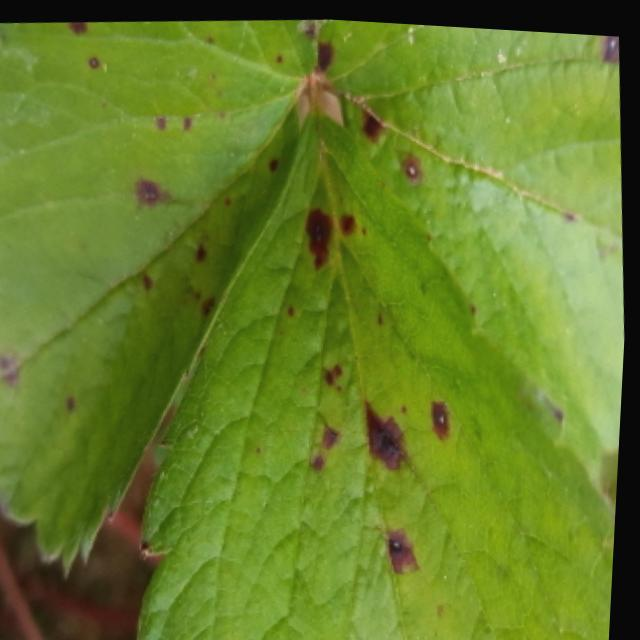Leaf Spot: (138, 100, 621, 640), (0, 14, 316, 578), (316, 15, 627, 476)
